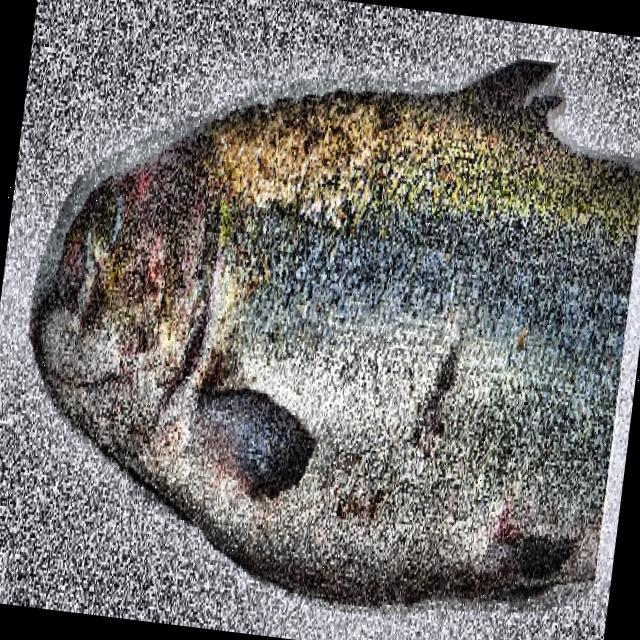mild_red: (412, 372, 451, 457), (332, 482, 388, 518), (492, 493, 524, 541), (194, 349, 229, 388), (339, 454, 365, 473), (442, 487, 455, 504)
